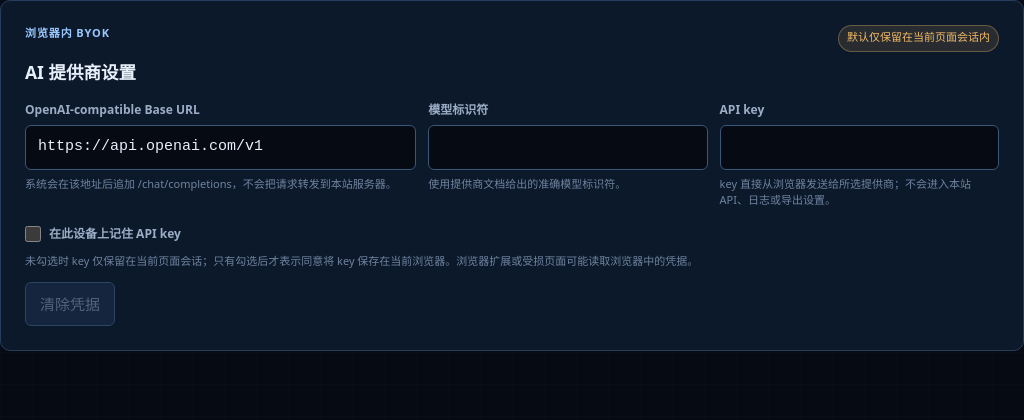
Scenario: AiSettings › shows a visible credential warning for custom endpoints
Replace the text in the field labelled "OpenAI-compatible Base URL" with "https://provider.example/v1" at (221, 148), box [25,125,416,170]
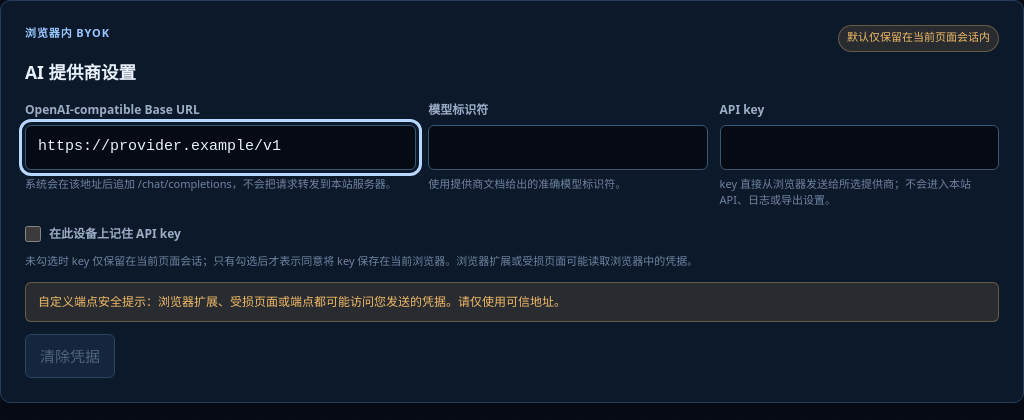
Result: the message shows "自定义端点" at [38,293,566,310]
Result: the message shows "浏览器扩展" at [38,293,566,310]
Result: the message shows "受损页面或端点" at [38,293,566,310]
